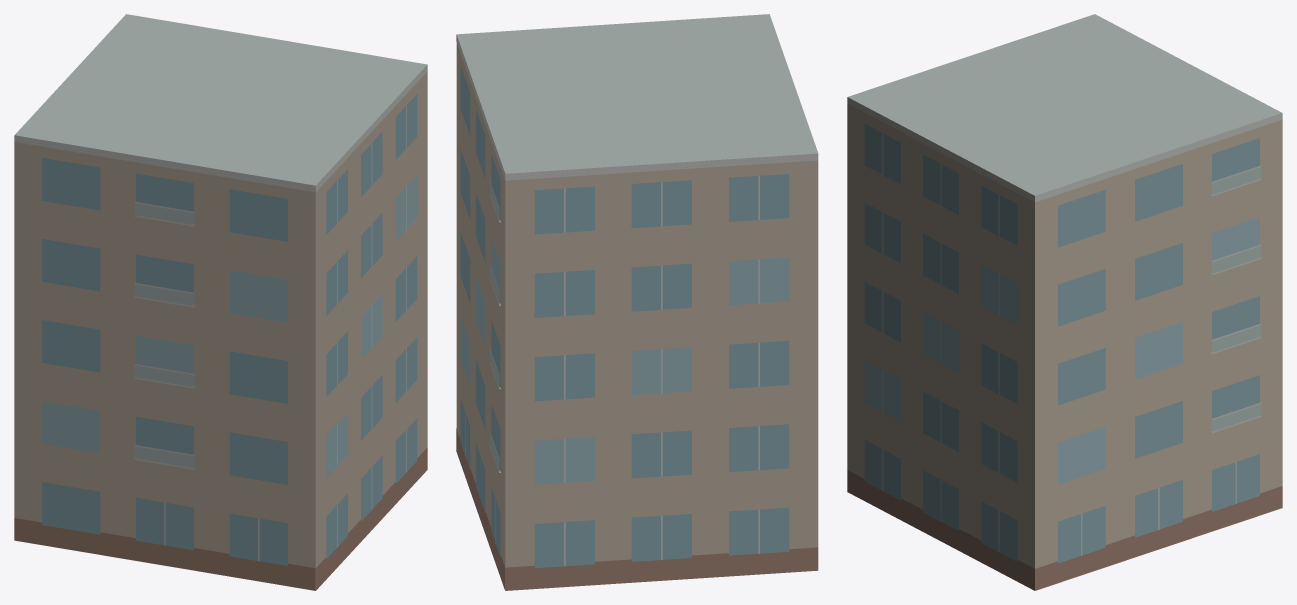
File: survey-upis-32853031.glb
The picture shows the model from 3 angles, left to right: view 1: azimuth 30°, elevation 25°; view 2: azimuth 150°, elevation 25°; view 3: azimuth 270°, elevation 25°; orthographic projection. The views are drawn at different scales.
Parts seen in each view (by area): view 1: survey-upis-32853031.tmp; view 2: survey-upis-32853031.tmp; view 3: survey-upis-32853031.tmp.
Part boxes in pixels (<box>): survey-upis-32853031.tmp: <box>14,14,427,590</box>; survey-upis-32853031.tmp: <box>456,14,818,590</box>; survey-upis-32853031.tmp: <box>847,14,1282,590</box>.
Bounding box in the file's own units: 14.52 × 14.7 × 14.69.
